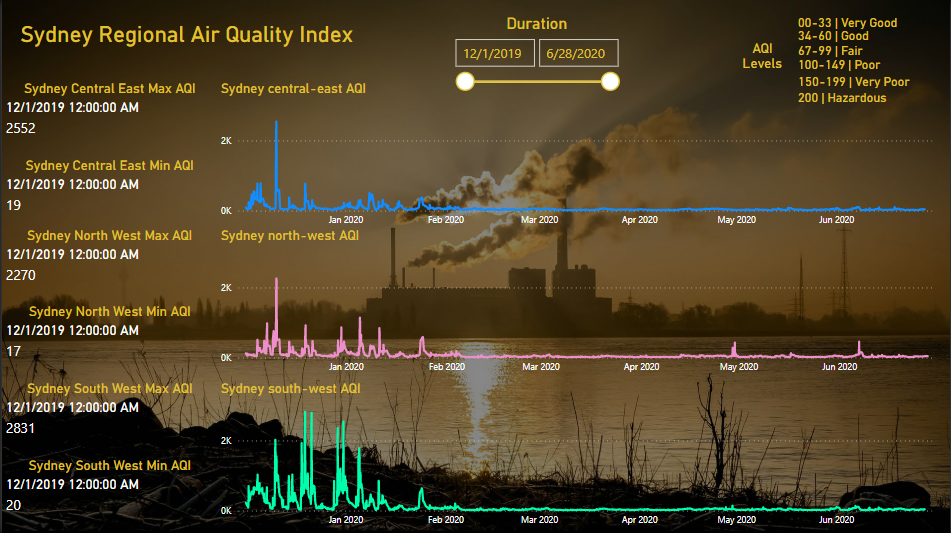

What the dashboard file says about the page in this screenshot:
{"tool":"powerbi","page":{"name":"Page 1","canvas":[1280,720],"ordinal":0},"visuals":[{"type":"slicer","title":"Duration","fields":{"Values":["Sheet1.Date Time"]},"box":[600,18.8,245,108.4],"z":0},{"type":"lineChart","title":"Sydney central-east AQI","fields":{"Category":["Sheet1.Date Time"],"Y":["Avg(Sheet1.Sydney central-east RAQI)"]},"box":[290.6,108.4,984.7,207.3],"z":1000},{"type":"lineChart","title":"Sydney north-west AQI","fields":{"Category":["Sheet1.Date Time"],"Y":["Avg(Sheet1.Sydney north-west RAQI)"]},"box":[290.6,306.3,989.4,207.3],"z":2000},{"type":"lineChart","title":"Sydney south-west AQI","fields":{"Category":["Sheet1.Date Time"],"Y":["Avg(Sheet1.Sydney south-west RAQI)"]},"box":[290.6,513.6,984.7,207.3],"z":3000},{"type":"multiRowCard","title":"Sydney South West Min AQI","fields":{"Values":["Sheet1.MinSydneySouth","Sheet1.LowDateSydneySouth"]},"box":[0,617.2,290.6,102.1],"z":4000},{"type":"multiRowCard","title":"Sydney North West Max AQI","fields":{"Values":["Sheet1.HighDateSydneyNorth","Sheet1.MaxSydneyNorth"]},"box":[0,306.3,290.6,103.7],"z":5000},{"type":"multiRowCard","title":"Sydney Central East Max AQI","fields":{"Values":["Sheet1.HighDateSydneyCentral","Sheet1.MaxSydneyCentral"]},"box":[0,108.4,290.6,103.7],"z":6000},{"type":"multiRowCard","title":"Sydney South West Max AQI","fields":{"Values":["Sheet1.MaxSydneySouth","Sheet1.HighDateSydneySouth"]},"box":[0,513.6,290.6,103.7],"z":7000},{"type":"multiRowCard","title":"Sydney North West Min AQI","fields":{"Values":["Sheet1.LowDateSydneyNorth","Sheet1.MinSydneyNorth"]},"box":[0,409.9,290.6,103.7],"z":8000},{"type":"multiRowCard","title":"Sydney Central East Min AQI","fields":{"Values":["Sheet1.MinSydneyCentral"]},"box":[0,212,290.6,95.8],"z":9000},{"type":"textbox","title":"Sydney Regional Air Quality Index","box":[15.7,28.3,466.5,61.3],"z":10000},{"type":"textbox","title":"34-60   | Good","box":[1069.8,38.1,166.5,28.3],"z":11000},{"type":"textbox","title":"67-99   | Fair","box":[1069.8,58.6,166.5,28.3],"z":12000},{"type":"textbox","title":"100-149 | Poor","box":[1069.8,77.4,166.5,28.3],"z":13000},{"type":"textbox","title":"150-199 | Very Poor","box":[1069.8,99.4,166.5,28.3],"z":14000},{"type":"textbox","title":"00-33   | Very Good","box":[1069.8,20.9,166.5,28.3],"z":15000},{"type":"textbox","title":"200     | Hazardous","box":[1069.8,121.4,171.2,28.3],"z":16000},{"type":"textbox","title":"AQI Levels","box":[991,53.4,70.7,51.8],"z":17000}]}

Visuals, with their boxes in screenshot pixels (x1, y1, x2, y2), scaled from the page's 1280x720 canvas onto the 951x533 screenshot:
"Duration" slicer: (x1=446, y1=14, x2=628, y2=94)
"Sydney central-east AQI" lineChart: (x1=216, y1=80, x2=948, y2=234)
"Sydney north-west AQI" lineChart: (x1=216, y1=227, x2=950, y2=380)
"Sydney south-west AQI" lineChart: (x1=216, y1=380, x2=948, y2=532)
"Sydney South West Min AQI" multiRowCard: (x1=0, y1=457, x2=216, y2=532)
"Sydney North West Max AQI" multiRowCard: (x1=0, y1=227, x2=216, y2=304)
"Sydney Central East Max AQI" multiRowCard: (x1=0, y1=80, x2=216, y2=157)
"Sydney South West Max AQI" multiRowCard: (x1=0, y1=380, x2=216, y2=457)
"Sydney North West Min AQI" multiRowCard: (x1=0, y1=303, x2=216, y2=380)
"Sydney Central East Min AQI" multiRowCard: (x1=0, y1=157, x2=216, y2=228)
"Sydney Regional Air Quality Index" textbox: (x1=12, y1=21, x2=358, y2=66)
"34-60   | Good" textbox: (x1=795, y1=28, x2=919, y2=49)
"67-99   | Fair" textbox: (x1=795, y1=43, x2=919, y2=64)
"100-149 | Poor" textbox: (x1=795, y1=57, x2=919, y2=78)
"150-199 | Very Poor" textbox: (x1=795, y1=74, x2=919, y2=95)
"00-33   | Very Good" textbox: (x1=795, y1=15, x2=919, y2=36)
"200     | Hazardous" textbox: (x1=795, y1=90, x2=922, y2=111)
"AQI Levels" textbox: (x1=736, y1=40, x2=789, y2=78)
